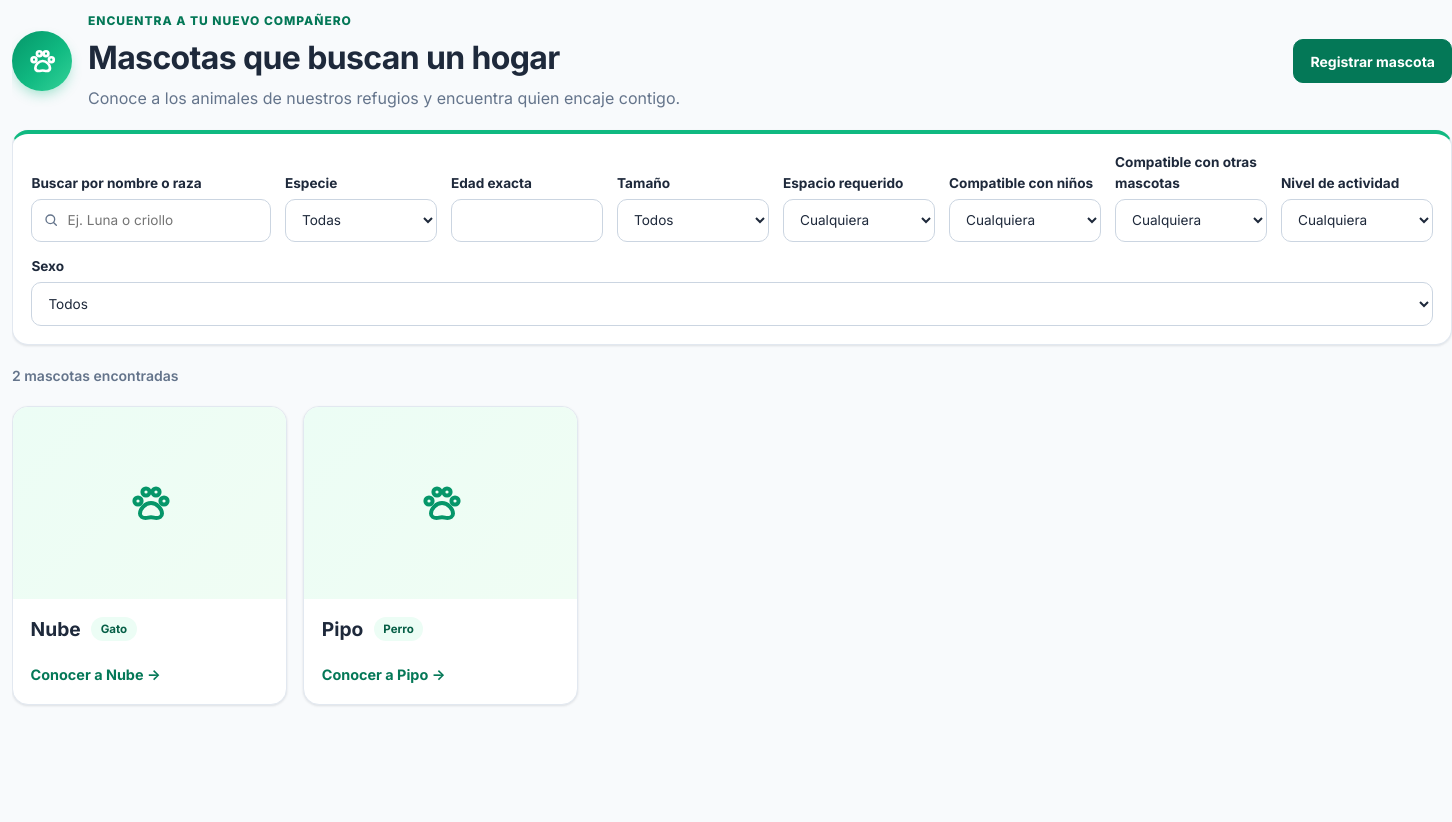
PetsPage › handles incomplete pet details and safely filters missing values
Expected: the number of list items is 2, [12,406,287,706]; [303,406,578,706]
Expected: the list item "Nube Gato Conocer a Nube →" is shown, [12,406,287,706]
Type "1" into the number field labelled "Edad exacta".
click(527, 220); type("1")  # box [451,199,603,242]
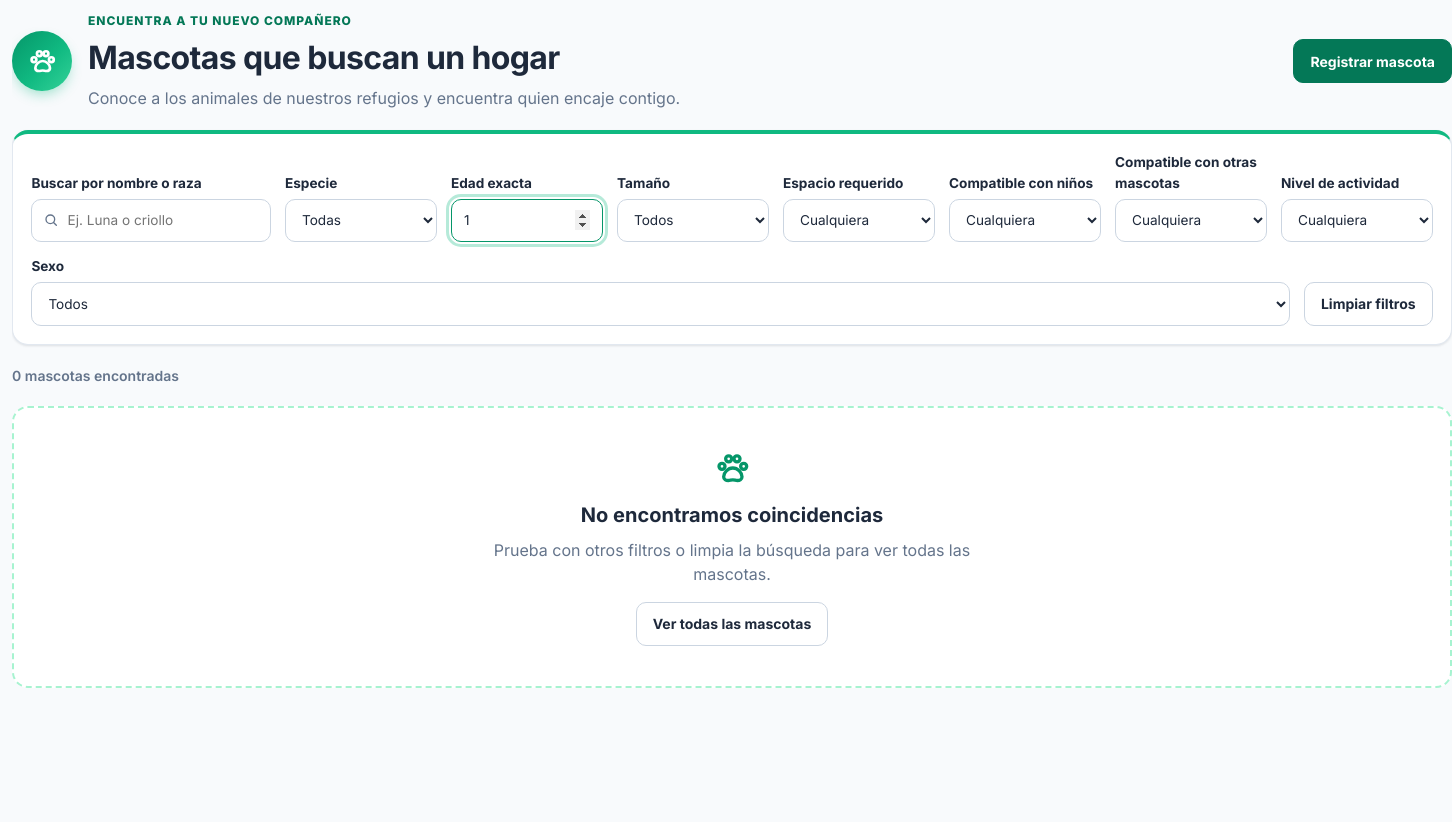
Result: the heading "No encontramos coincidencias" is shown at [581,500,883,530]
Click the button "Limpiar filtros".
click(1368, 304)  # box [1304,282,1433,326]
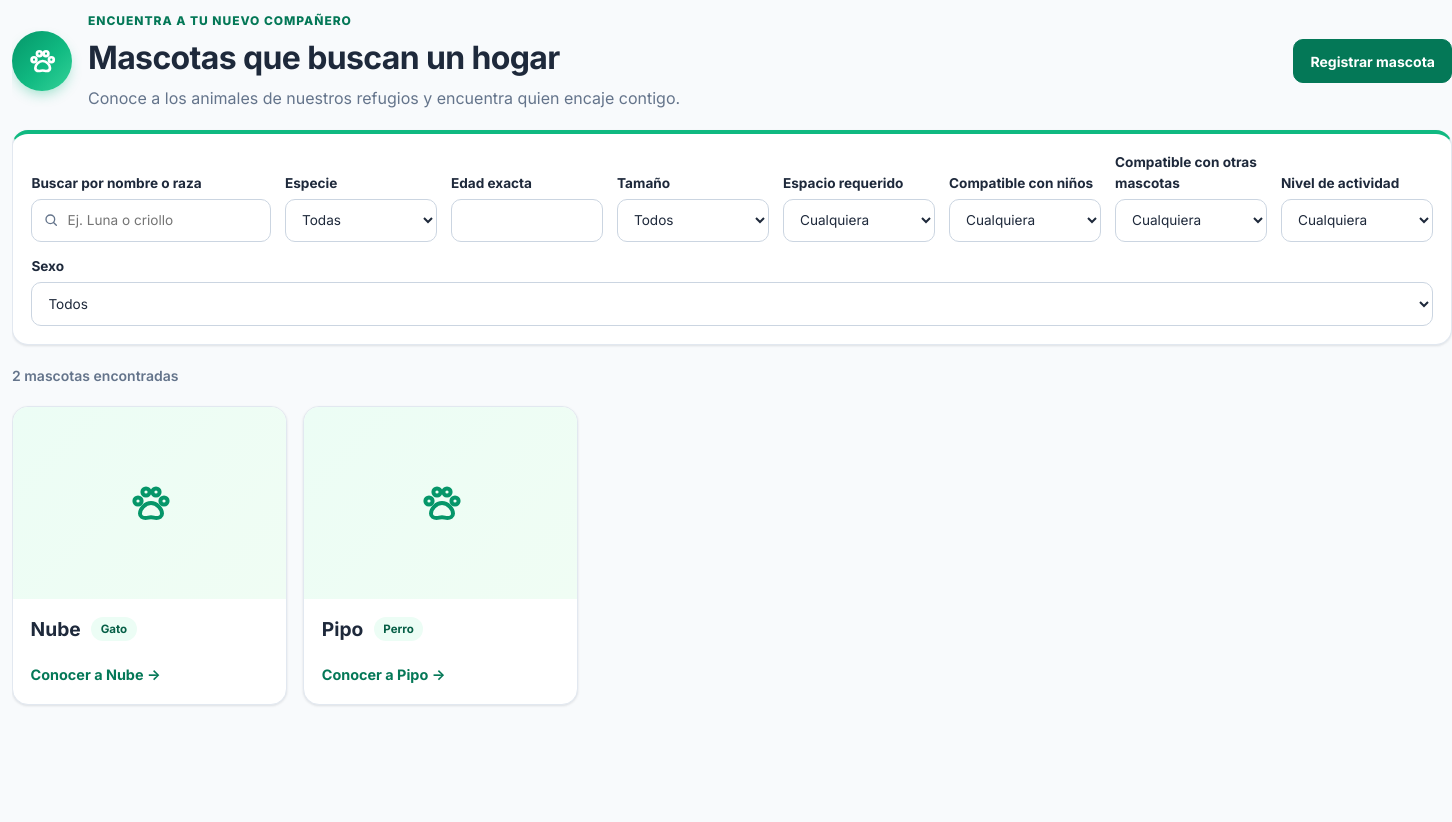
Select "Apartamento" in the dropdown labelled "Espacio requerido" at (859, 220), box [783,199,935,242]
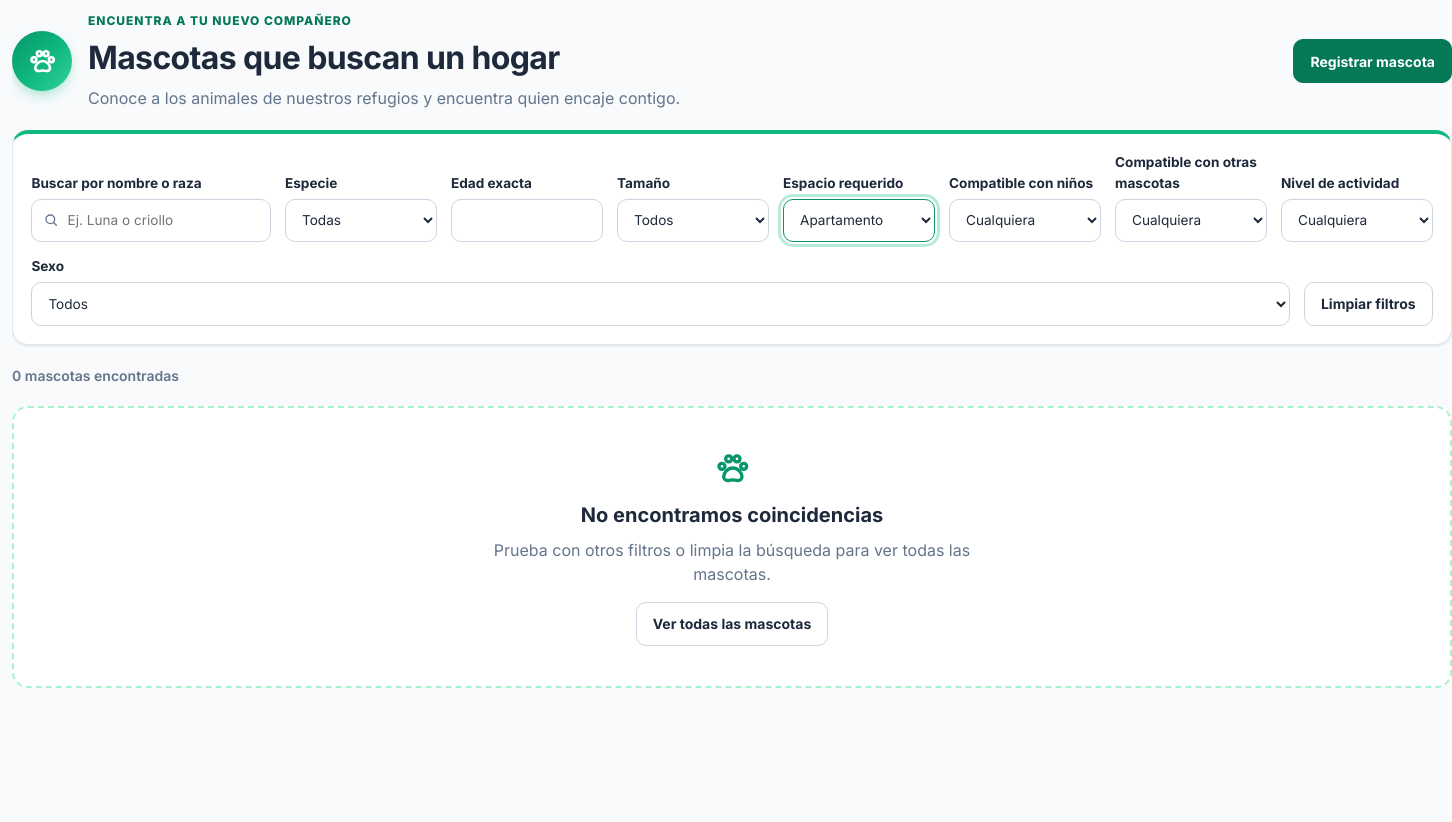
Result: the heading "No encontramos coincidencias" is shown at [581,500,883,530]
Click the button "Limpiar filtros".
click(1368, 304)  # box [1304,282,1433,326]
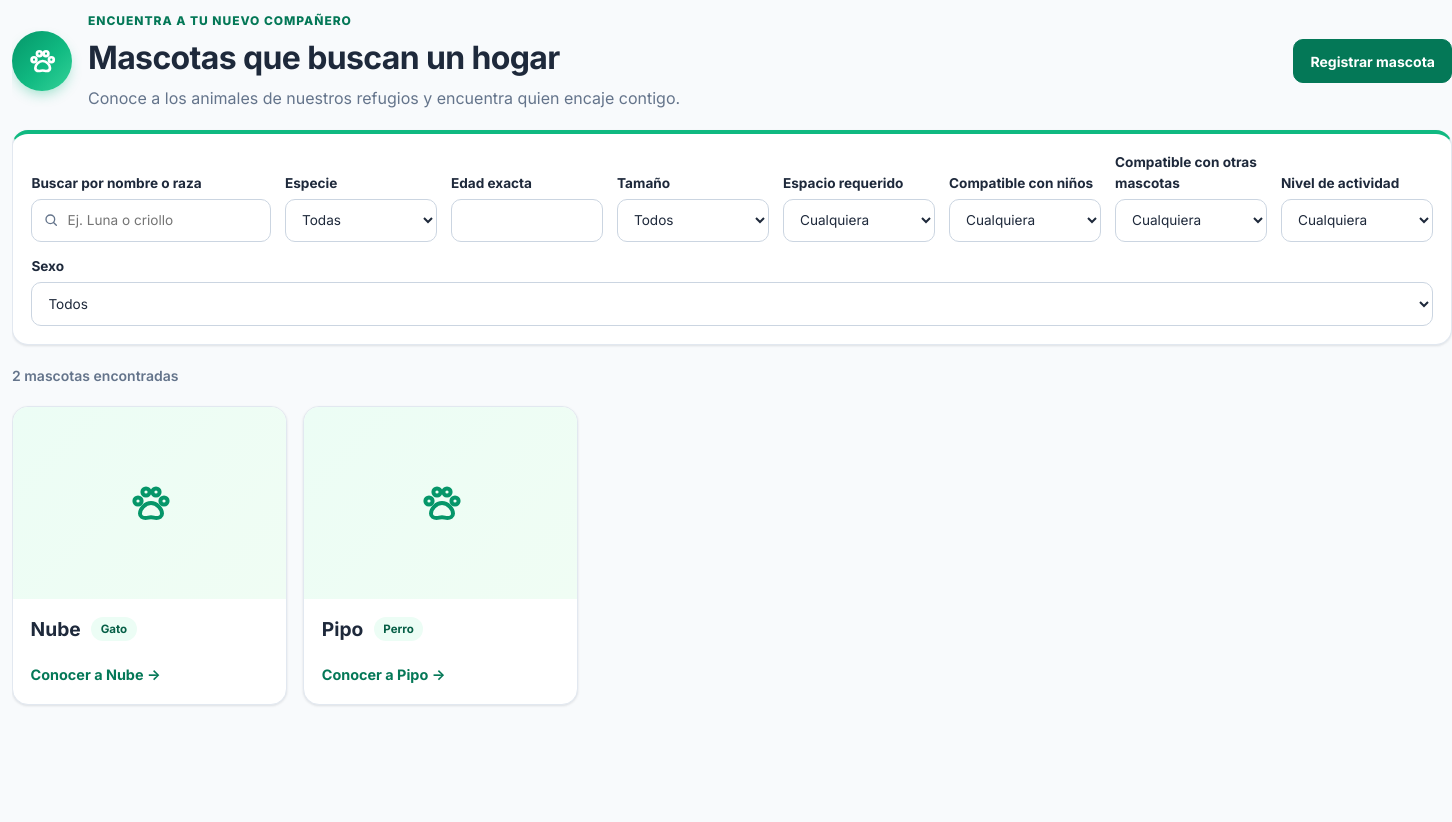
Select "Sí" in the dropdown labelled "Compatible con niños" at (1025, 220), box [949,199,1101,242]
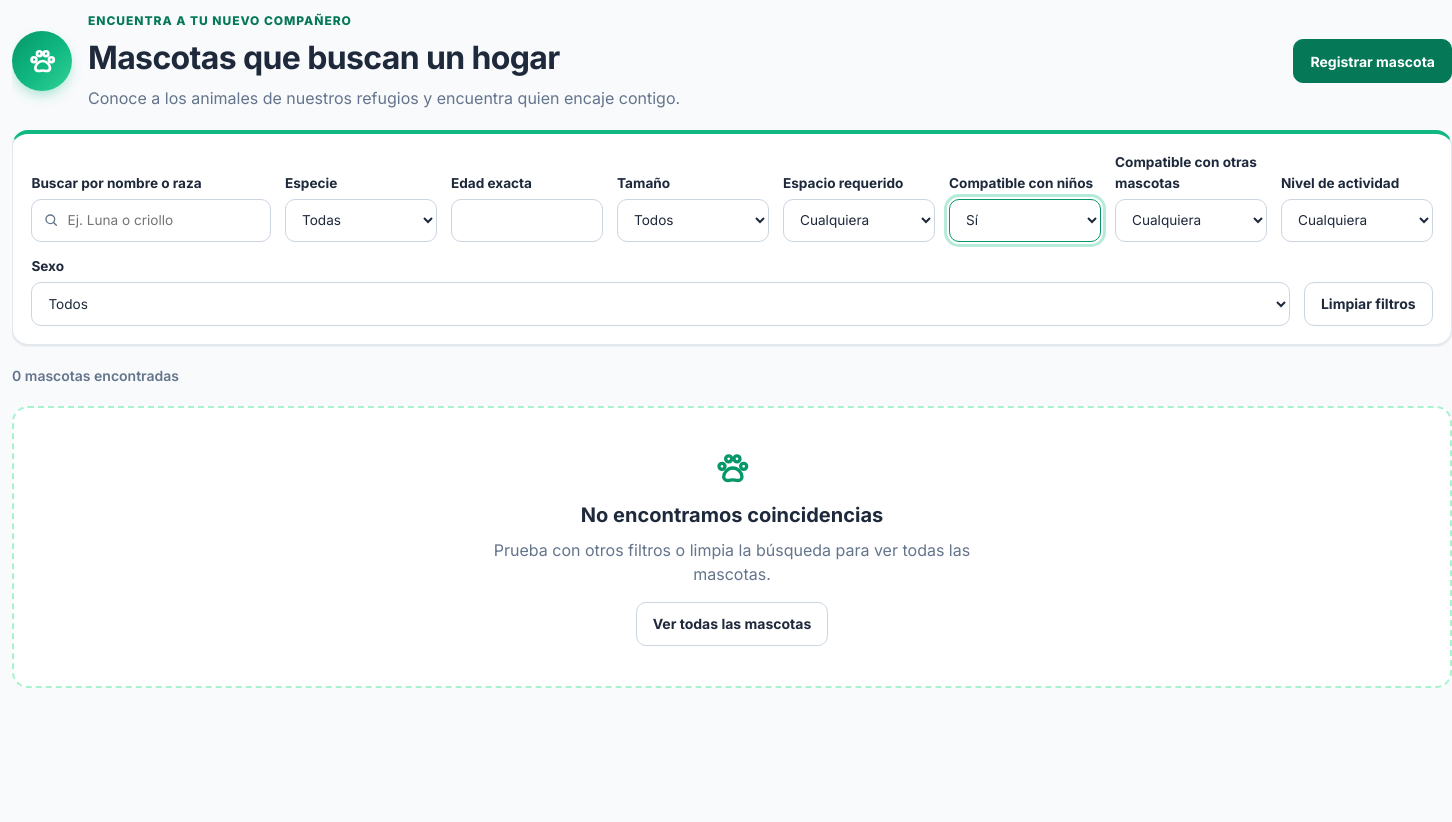
Result: the heading "No encontramos coincidencias" is shown at [581,500,883,530]
